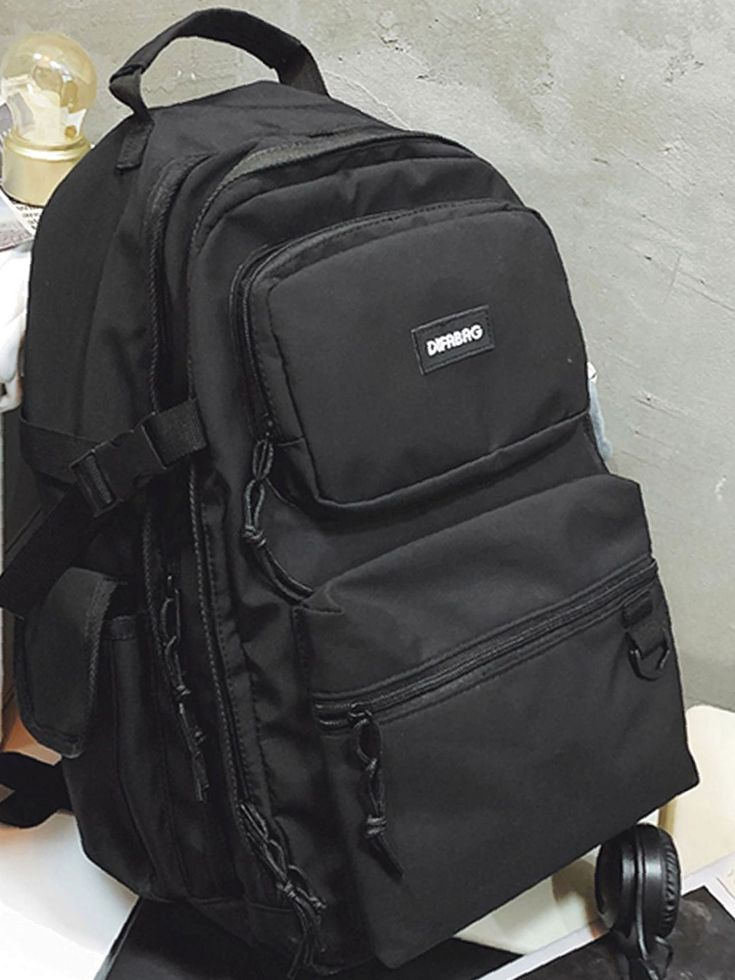nylon: (1, 7, 701, 980)
